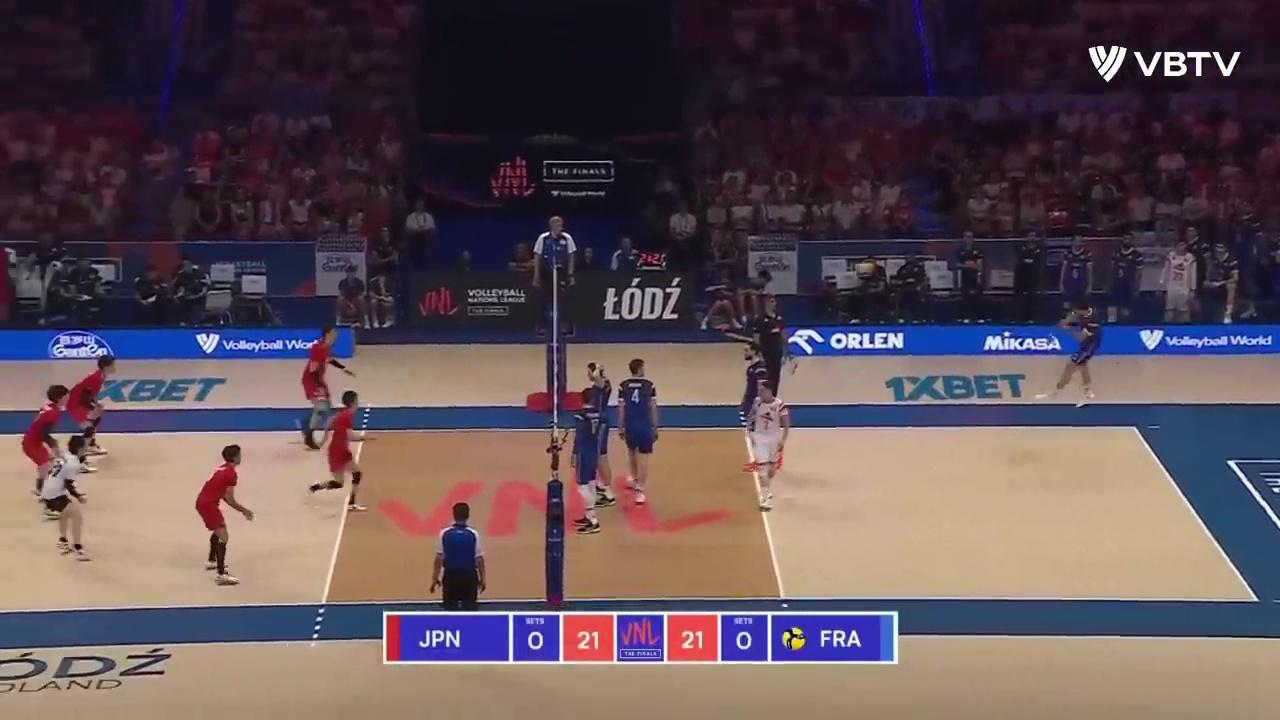ball: (855, 263, 874, 279)
